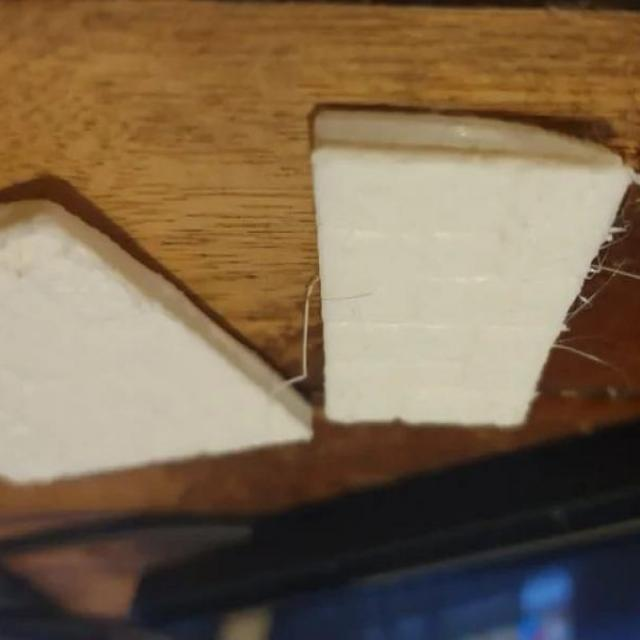Warping: (536, 118, 636, 168)
